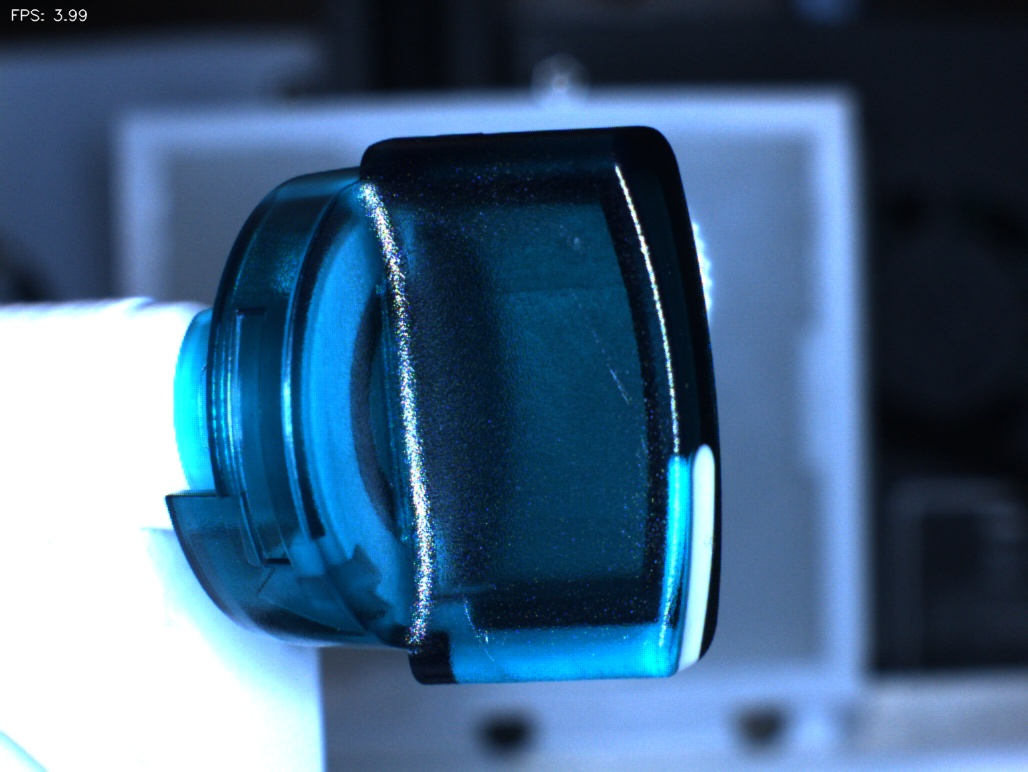Givrage: (564, 281, 662, 468)
